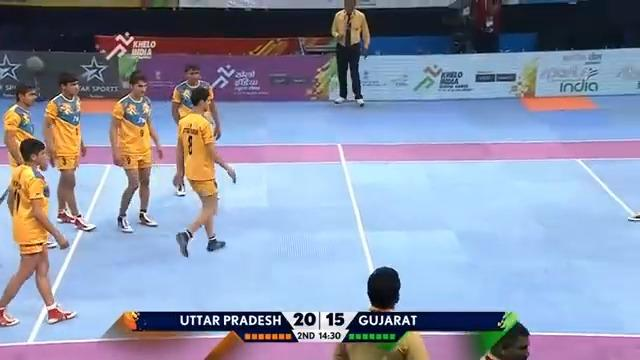Player: (0, 137, 77, 327), (172, 84, 236, 257), (2, 82, 59, 248), (332, 265, 430, 359), (108, 71, 163, 232), (42, 72, 96, 234), (170, 63, 221, 196), (468, 310, 530, 359)
referee: (329, 0, 371, 106)
